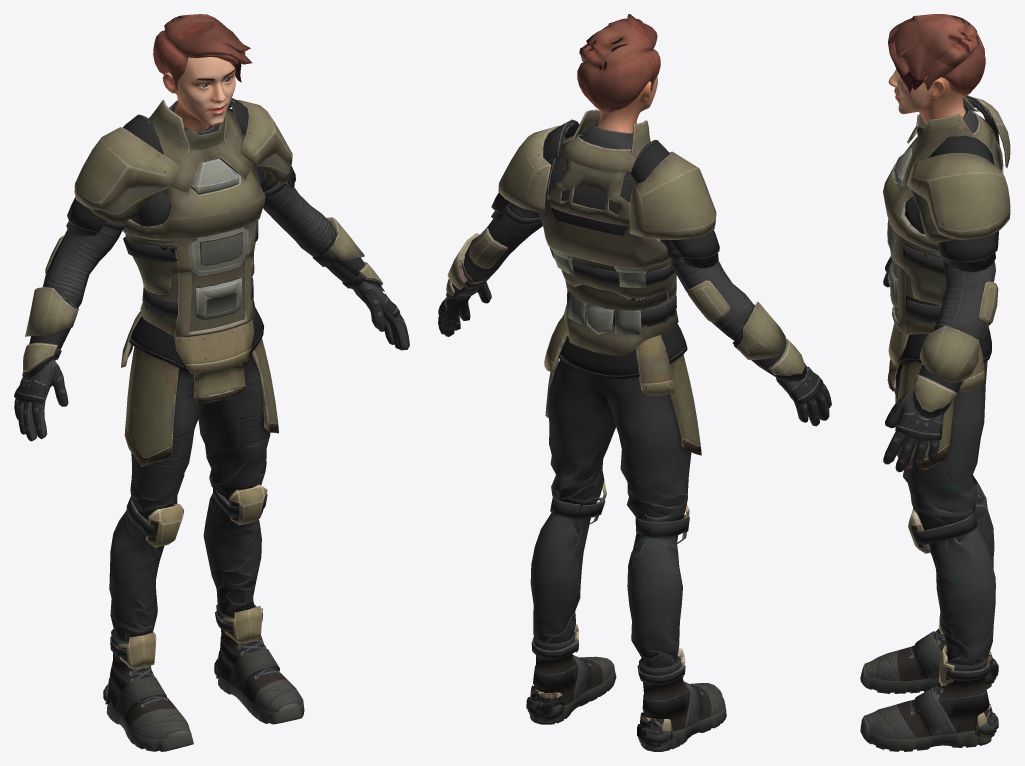
File: Skinny_Character_Costume_3.glb
3 views of the same model, side by side, from view 1: azimuth 30°, elevation 25°; view 2: azimuth 150°, elevation 25°; view 3: azimuth 270°, elevation 25° (orthographic).
Parts seen in each view (by area): view 1: Wolf3D_Outfit_Top.004, Wolf3D_Outfit_Top.001, Wolf3D_Outfit_Top.006, Wolf3D_Outfit_Top.005, Outfit_Bottom.013, Outfit_Bottom.010; view 2: Wolf3D_Outfit_Top.004, Wolf3D_Outfit_Top.001, Outfit_Bottom.013, Wolf3D_Outfit_Top.006, Wolf3D_Outfit_Top.005, Outfit_Bottom.010; view 3: Wolf3D_Outfit_Top.004, Wolf3D_Outfit_Top.001, Wolf3D_Outfit_Top.005, Outfit_Bottom.013, Wolf3D_Outfit_Top.006, Outfit_Bottom.010.
Part boxes in pixels (box(x1,y1,x2,y2)): Wolf3D_Outfit_Top.004: box(14, 98, 409, 441); Wolf3D_Outfit_Top.001: box(103, 307, 278, 704); Wolf3D_Outfit_Top.006: box(106, 629, 193, 751); Wolf3D_Outfit_Top.005: box(216, 604, 304, 724); Outfit_Bottom.013: box(153, 14, 251, 90); Outfit_Bottom.010: box(162, 57, 235, 130); Wolf3D_Outfit_Top.004: box(438, 109, 831, 426); Wolf3D_Outfit_Top.001: box(526, 314, 701, 747); Outfit_Bottom.013: box(577, 14, 660, 113); Wolf3D_Outfit_Top.006: box(639, 655, 726, 751); Wolf3D_Outfit_Top.005: box(530, 632, 616, 724); Outfit_Bottom.010: box(597, 76, 657, 133); Wolf3D_Outfit_Top.004: box(883, 95, 1010, 472); Wolf3D_Outfit_Top.001: box(887, 323, 998, 737); Wolf3D_Outfit_Top.005: box(860, 653, 991, 751); Outfit_Bottom.013: box(888, 14, 985, 95); Wolf3D_Outfit_Top.006: box(860, 628, 991, 693); Outfit_Bottom.010: box(888, 69, 965, 125).
Size of the model in its own units: 1.07 by 1.87 by 0.3644.
Materials: 6 (6 with a texture image).
